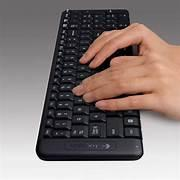keyboard: (35, 8, 143, 161)
